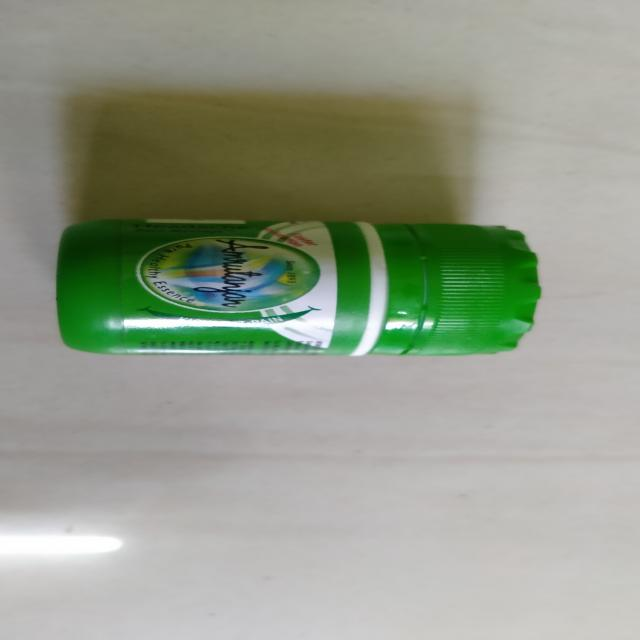eucalyptus oil: (64, 205, 533, 350)
